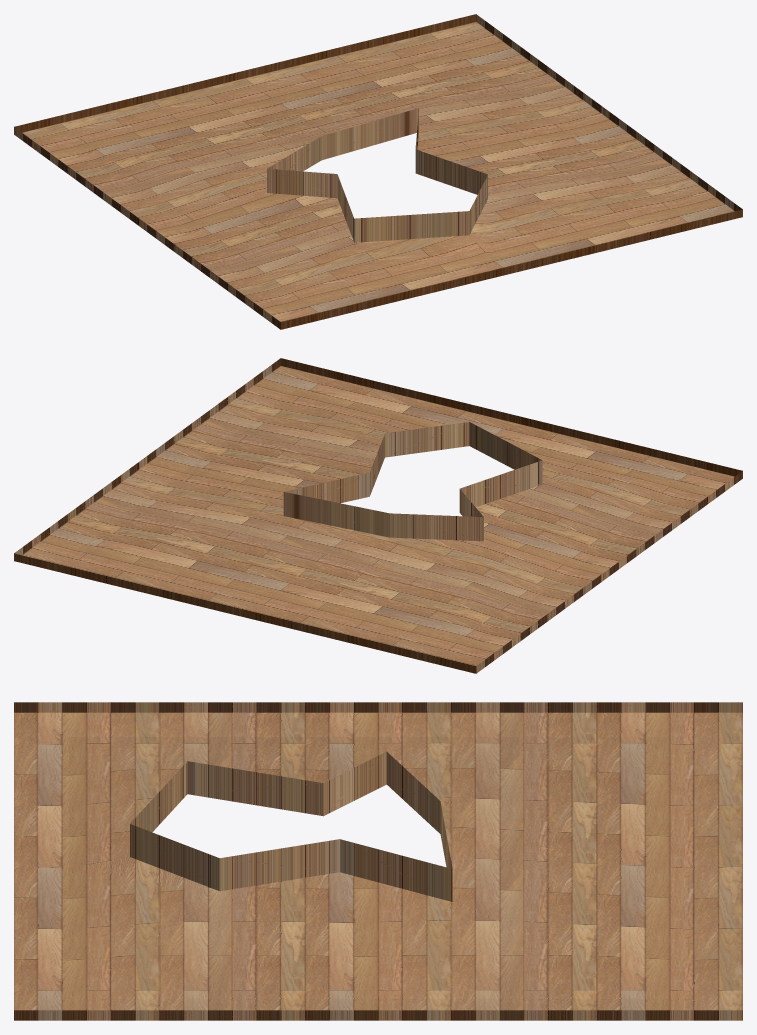
File: BrokenRoof.FBX
The picture shows the model from 3 angles, top to bottom: view 1: azimuth 30°, elevation 25°; view 2: azimuth 150°, elevation 25°; view 3: azimuth 270°, elevation 25°; orthographic projection. The views are drawn at different scales.
Visible parts, largest first — view 1: Object003; view 2: Object003; view 3: Object003.
Boxes of the visible parts, bbox=[...] form: Object003: bbox=[14, 14, 742, 329]; Object003: bbox=[14, 358, 742, 673]; Object003: bbox=[14, 702, 742, 1020].
Bounding box in the file's own units: 250 × 16.66 × 250.
